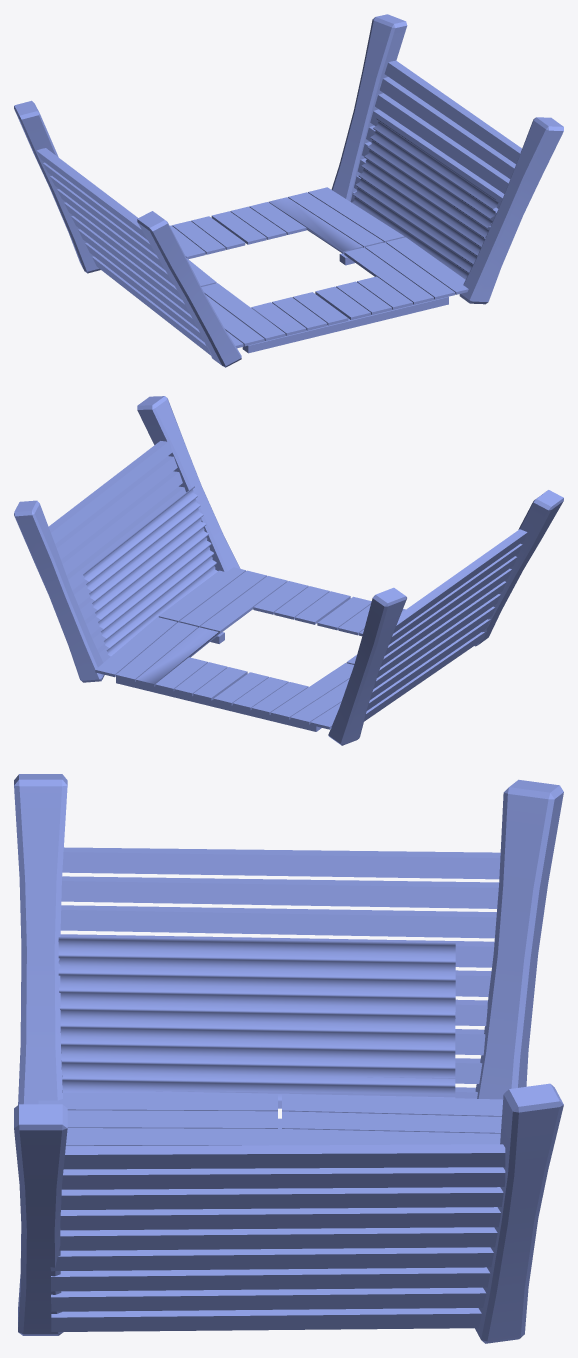
File: TrenchWideTrapDoor.fbx
3 views of the same model, one above another, from view 1: azimuth 30°, elevation 25°; view 2: azimuth 150°, elevation 25°; view 3: azimuth 270°, elevation 25° (orthographic). The views are drawn at different scales.
Parts seen in each view (by area): view 1: TrenchWideTrapDoor; view 2: TrenchWideTrapDoor; view 3: TrenchWideTrapDoor.
Part boxes in pixels (<box>): TrenchWideTrapDoor: <box>14,14,563,367</box>; TrenchWideTrapDoor: <box>14,396,563,745</box>; TrenchWideTrapDoor: <box>14,774,563,1343</box>.
Bounding box in the file's own units: 567 × 220 × 376.
